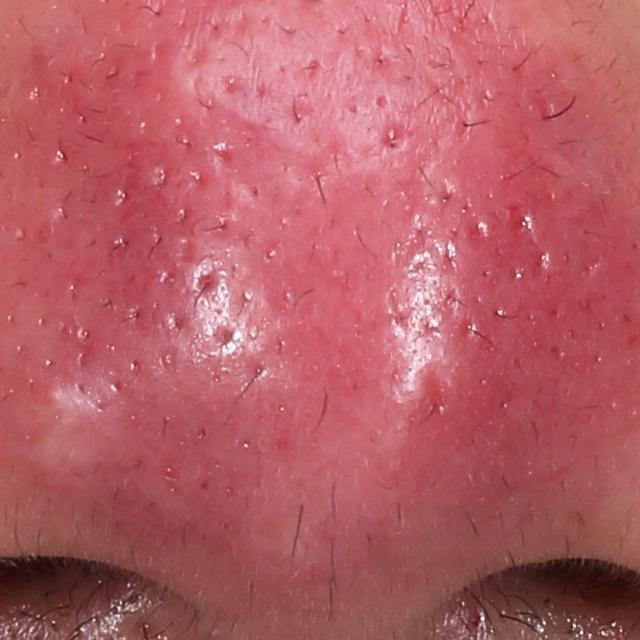hypertrophic_scar: (13, 380, 101, 492)
